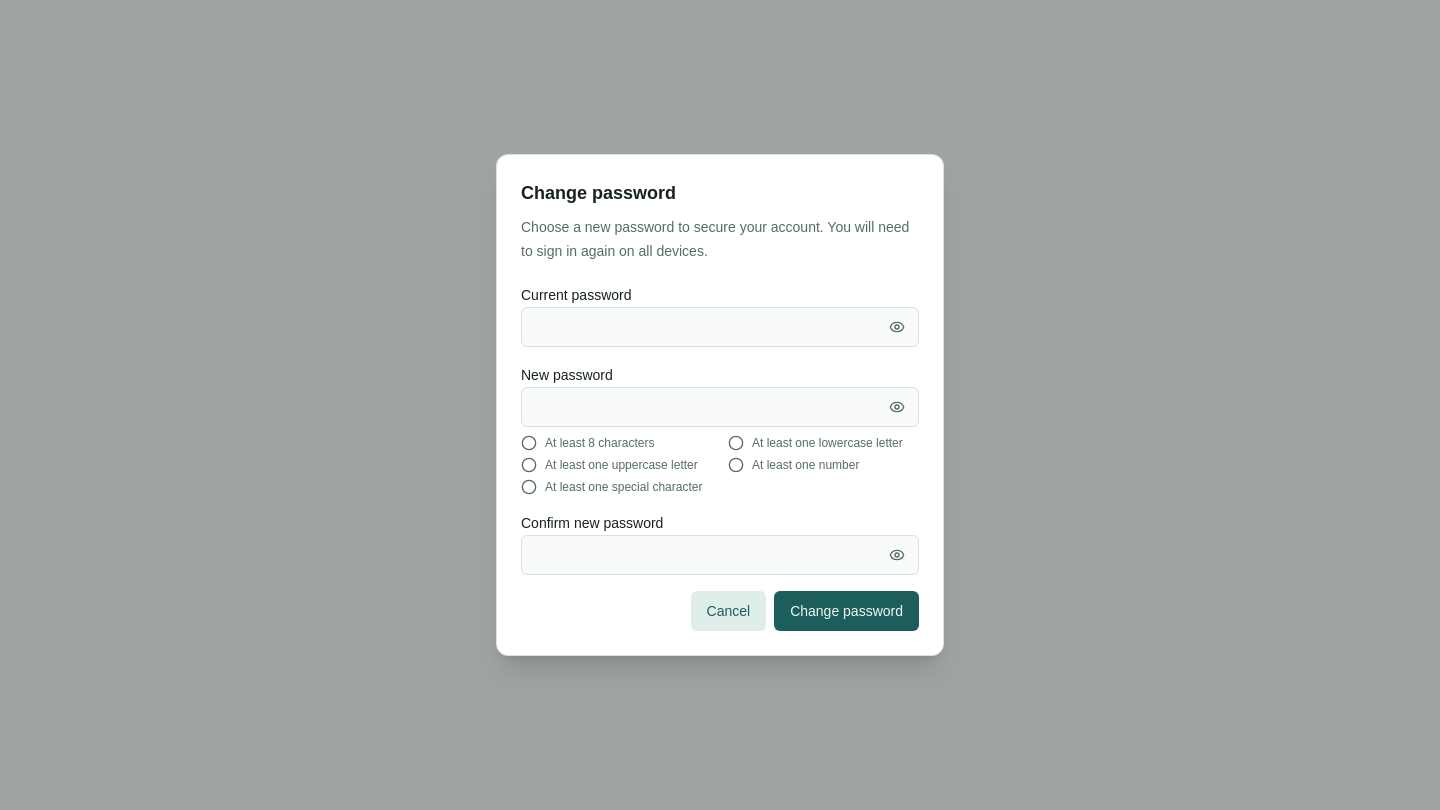
Test: change password dialog › shows an invalid current password inline without logging out
Step 1. Type "Current1!" into the password field labelled "Current password" → (720, 327), box [521,307,919,347]
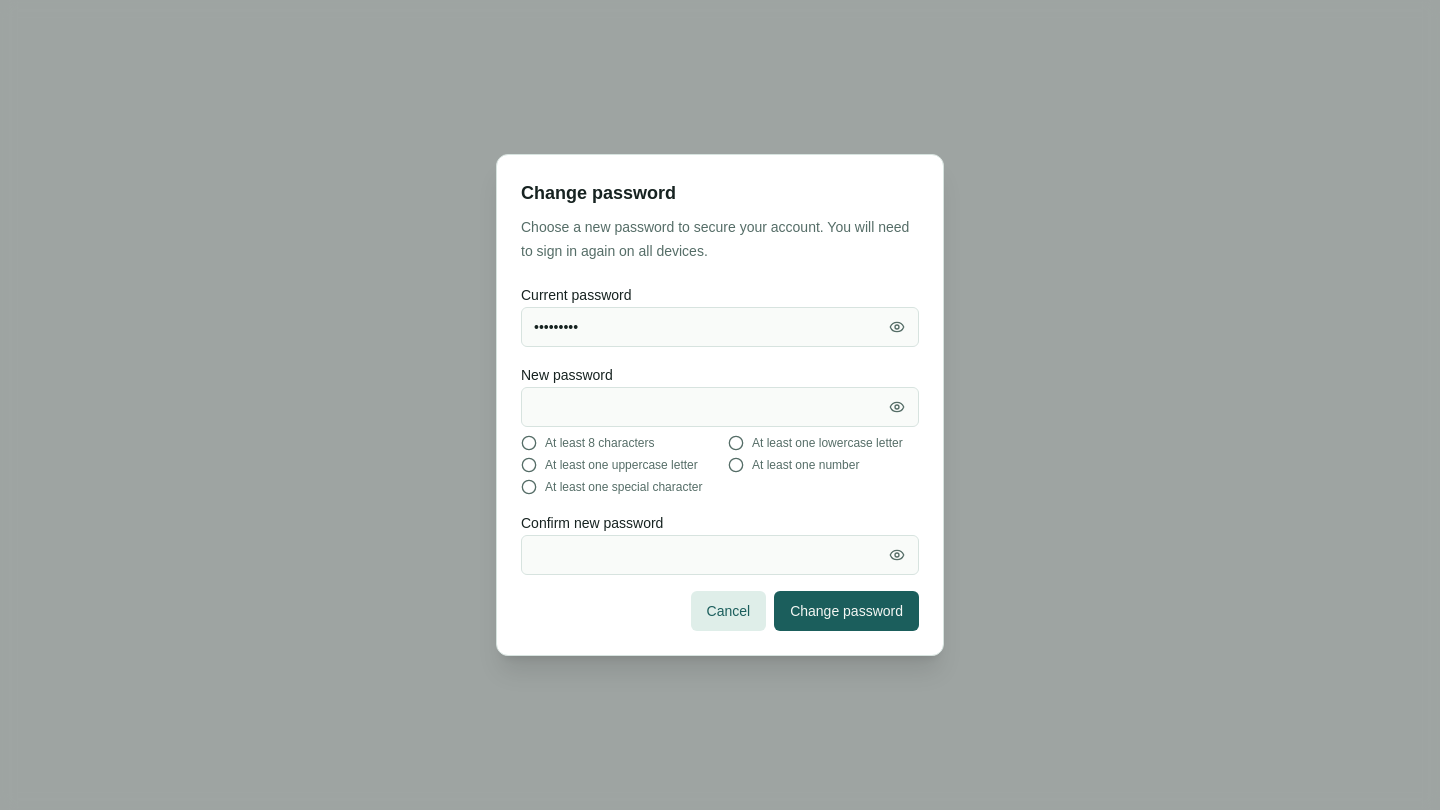
Step 2. Type "Newpass2!" into the password field labelled "New password" → (720, 407), box [521,387,919,427]
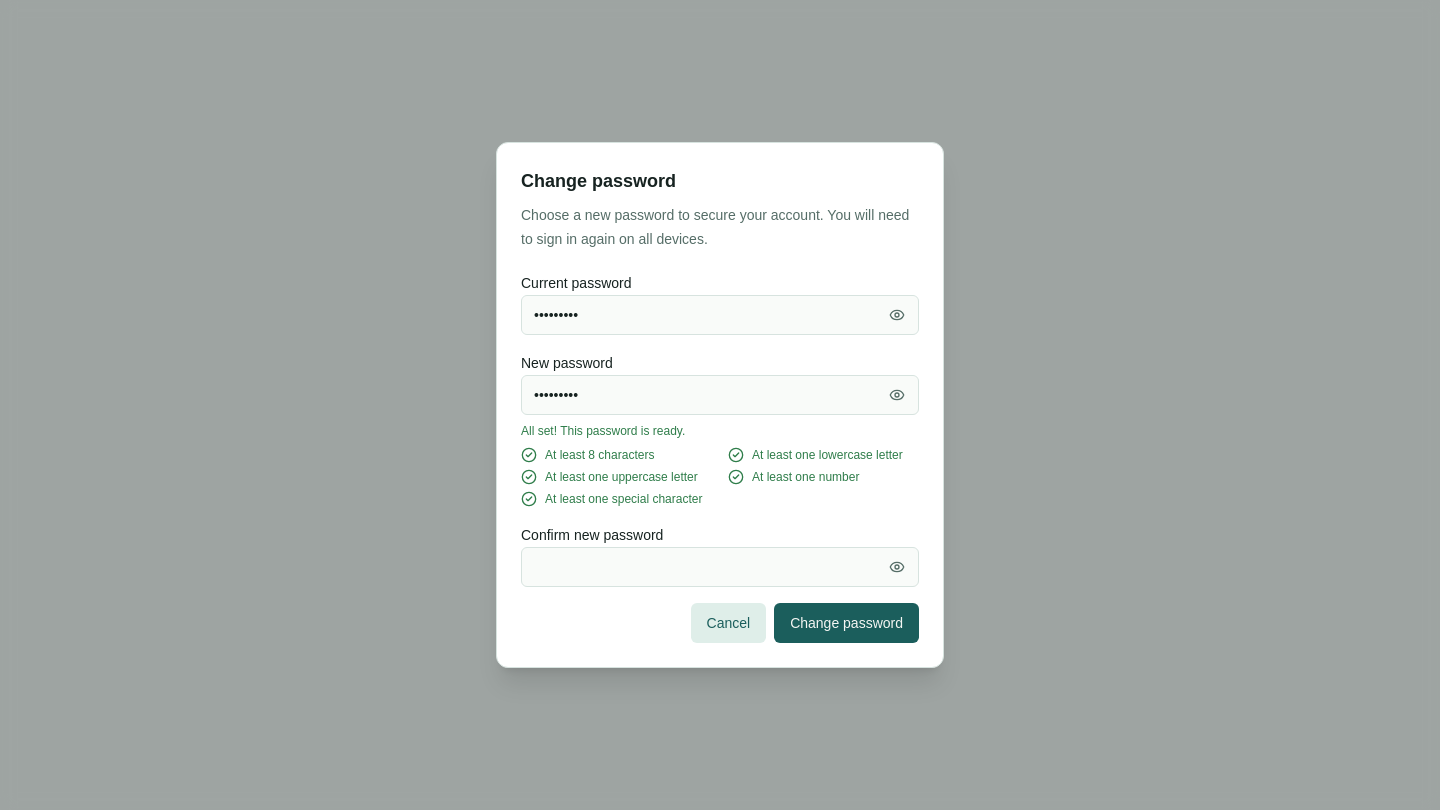
Step 3. Type "Newpass2!" into the password field labelled "Confirm new password" → (720, 567), box [521,547,919,587]
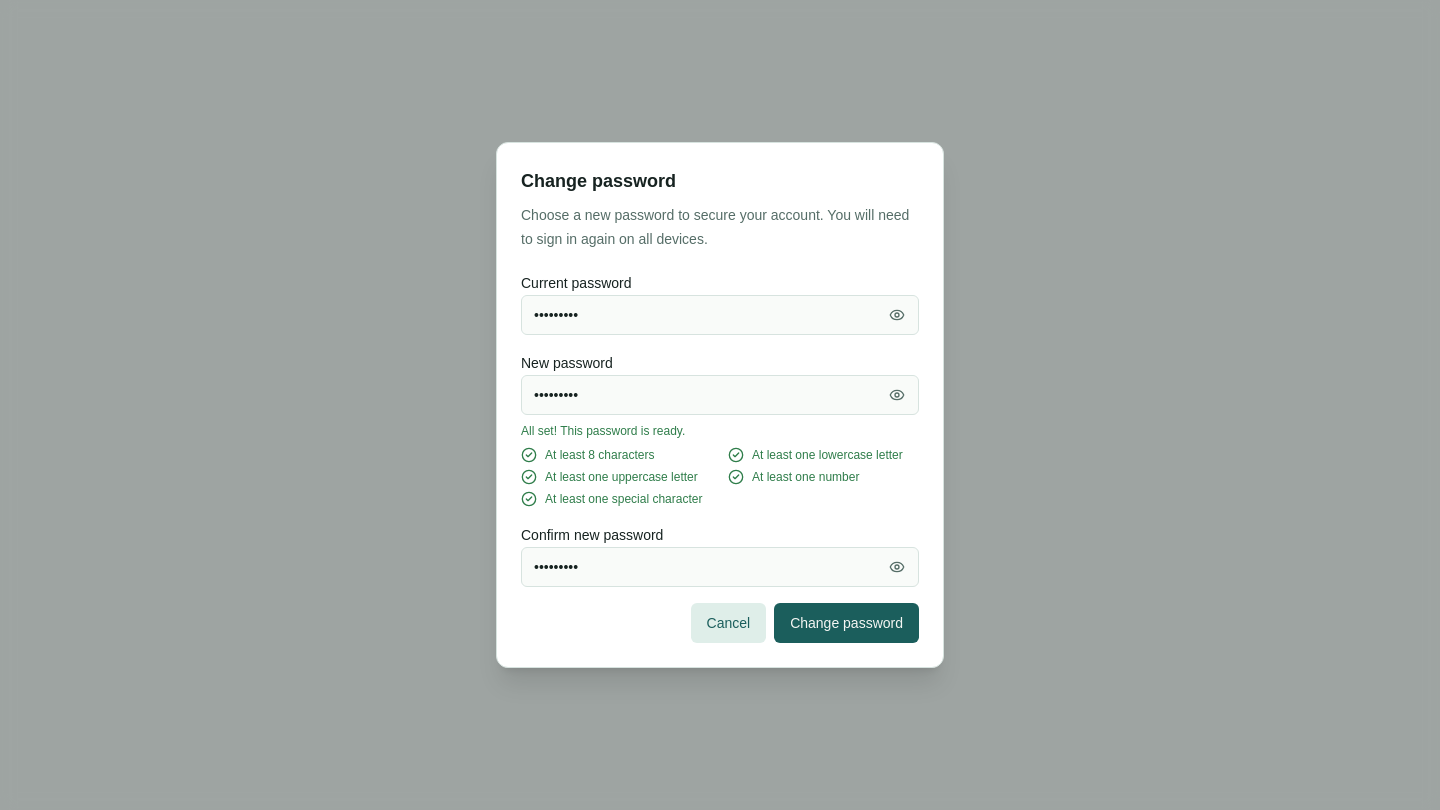
Step 4. Click the button "Change password" → (847, 623), box [774,603,919,643]
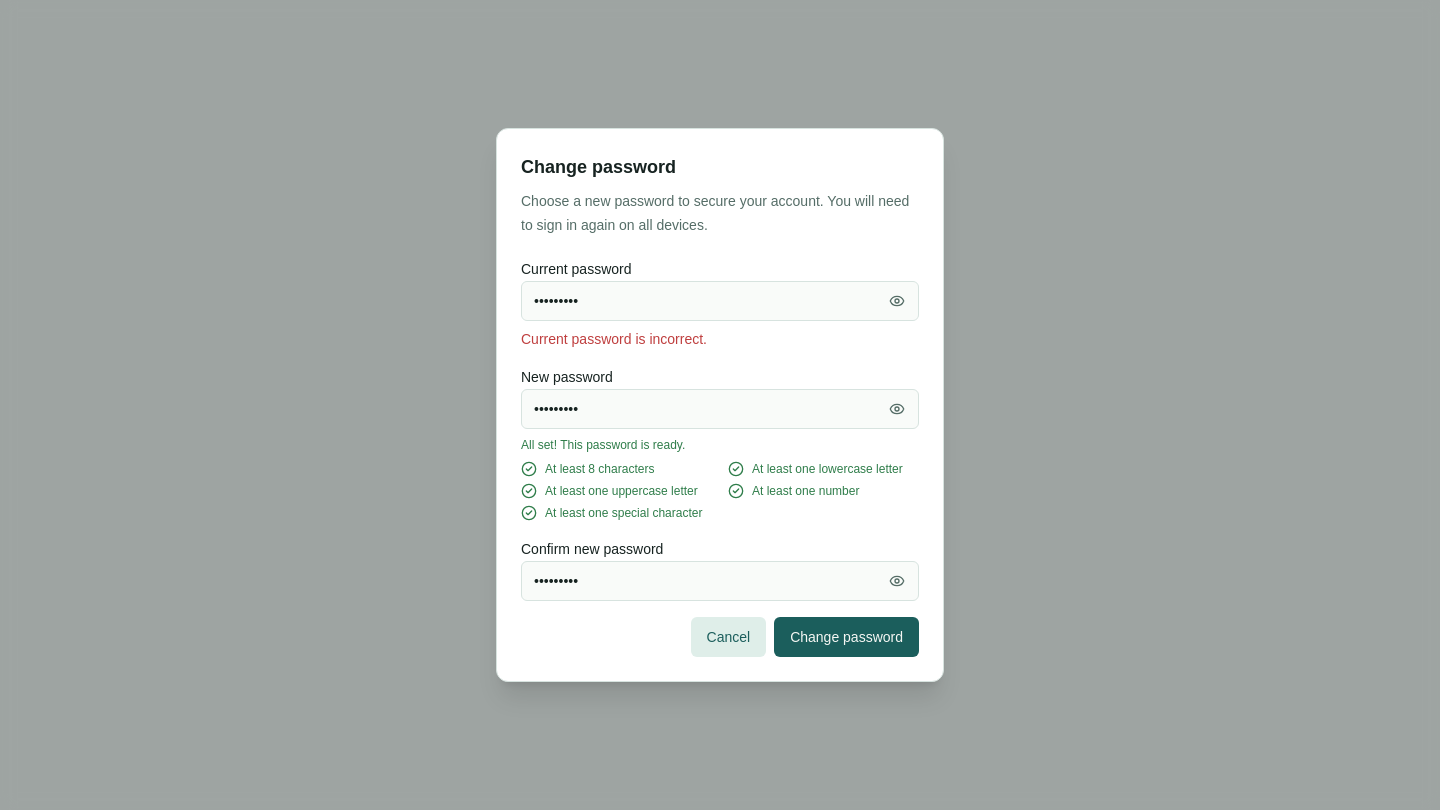
Expected: the text "Current password is incorrect." is shown, [521,331,707,347]
